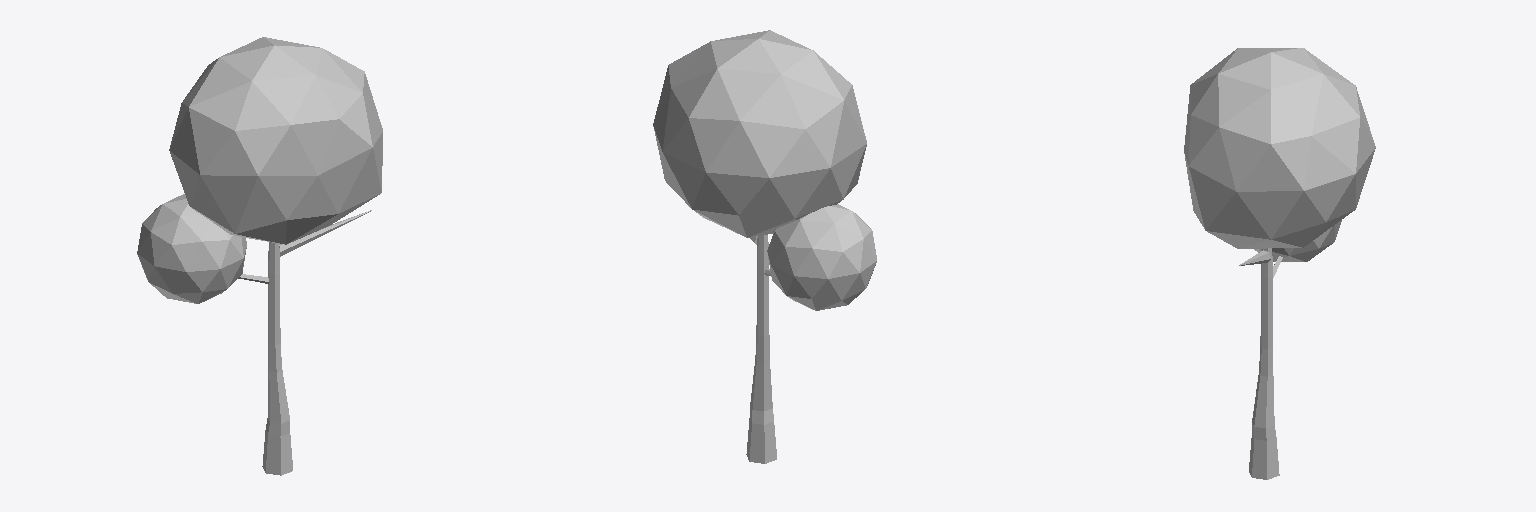
File: tree.obj
The picture shows the model from 3 angles: view 1: azimuth 30°, elevation 25°; view 2: azimuth 150°, elevation 25°; view 3: azimuth 270°, elevation 25°; orthographic projection.
Parts seen in each view (by area): view 1: Icosphere.001, Icosphere, Tree_Tree.001; view 2: Icosphere.001, Icosphere, Tree_Tree.001; view 3: Icosphere.001, Tree_Tree.001, Icosphere.
Part boxes in pixels (left/top/right/bottom): Icosphere.001: left=169, top=37, right=382, bottom=244; Icosphere: left=137, top=194, right=246, bottom=303; Tree_Tree.001: left=238, top=210, right=371, bottom=475; Icosphere.001: left=653, top=30, right=866, bottom=237; Icosphere: left=767, top=204, right=876, bottom=310; Tree_Tree.001: left=746, top=235, right=776, bottom=463; Icosphere.001: left=1184, top=48, right=1375, bottom=248; Tree_Tree.001: left=1239, top=248, right=1282, bottom=479; Icosphere: left=1254, top=220, right=1341, bottom=261.
Size of the model in its own units: 1.4 by 2.68 by 1.11.